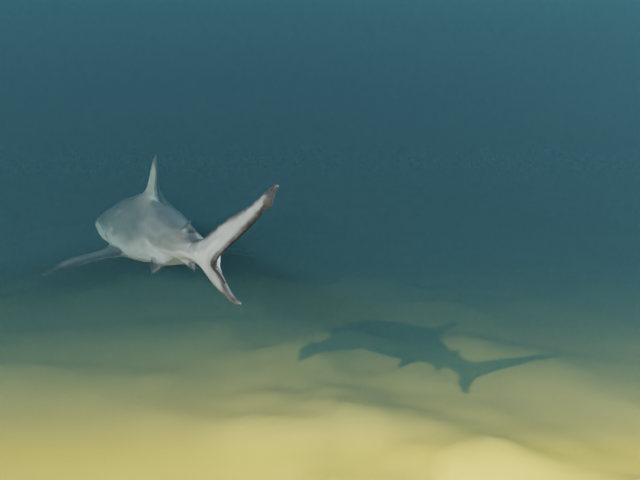Carribean Shark.001: (41, 155, 278, 305)
